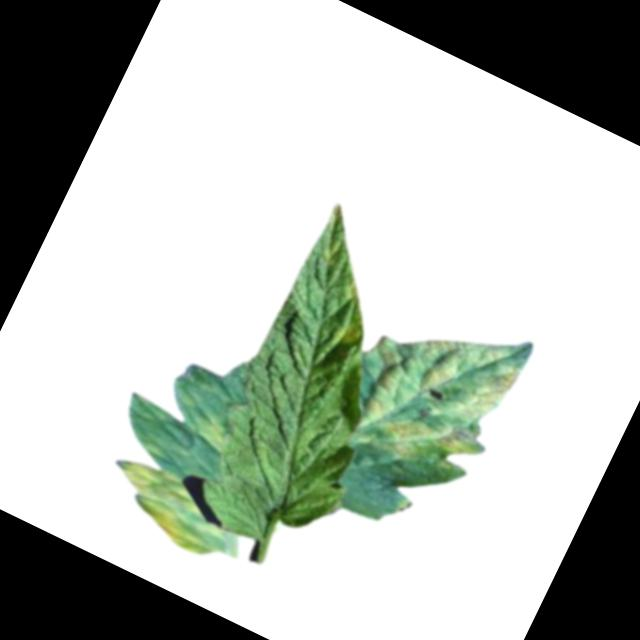Leaf_Mold: (331, 294, 533, 499), (95, 448, 239, 564), (193, 414, 237, 455), (328, 313, 369, 351)
